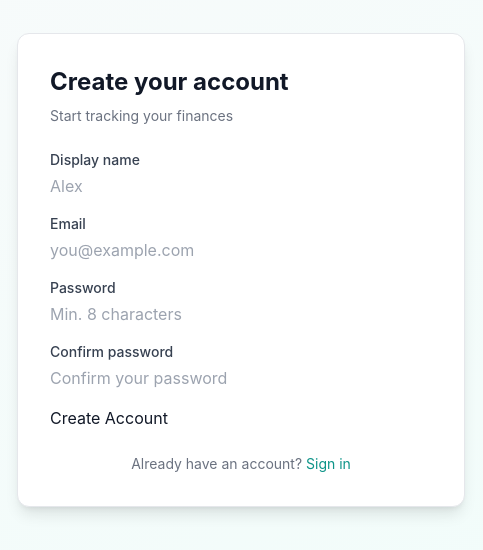
it: Register › shows password strength indicator when typing
This screenshot has width=483, height=550.
In the password field with placeholder "Min. 8 characters": (174, 314) left=50, top=302, right=298, bottom=326, type "ab"
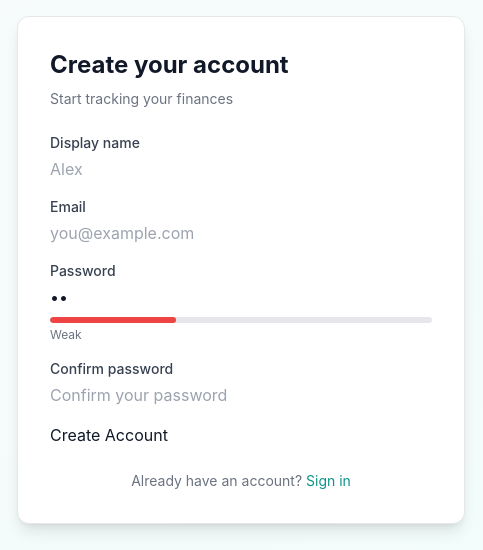
expect the text "Weak" is shown: met, box left=50, top=327, right=82, bottom=342
